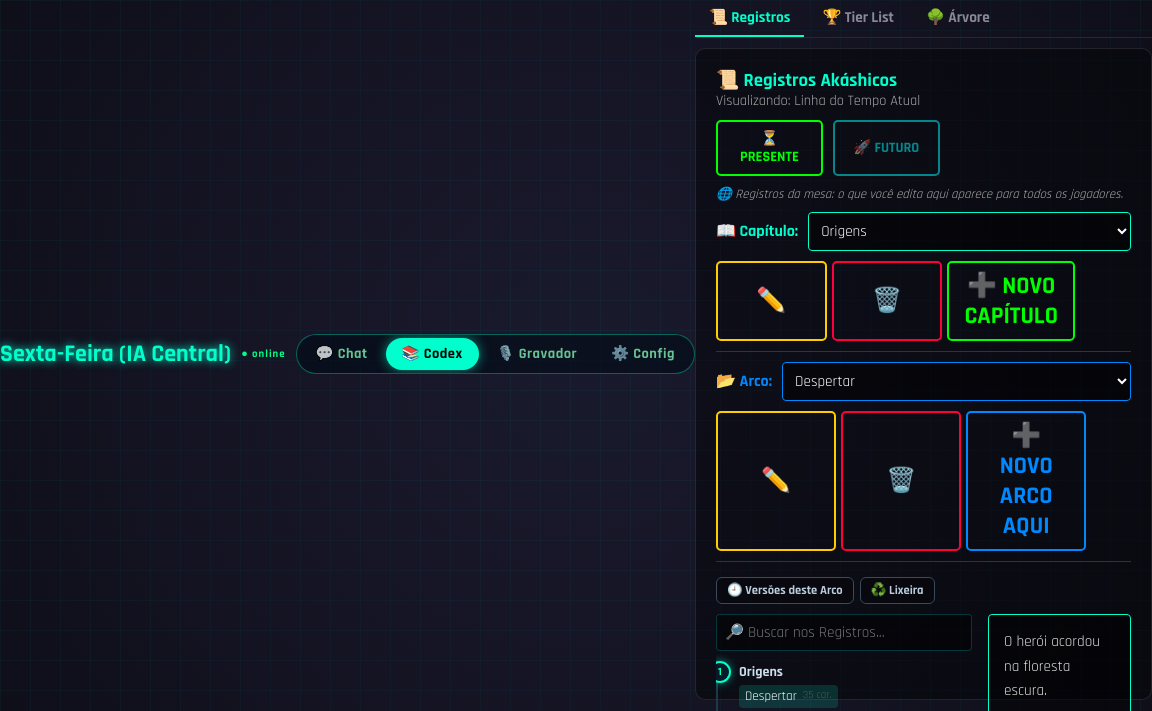
Test: VersoesArcoModal › clicar em outra versao troca a previa
This screenshot has width=1152, height=711.
Click the button "🕘 Versões deste Arco". click: coordinates (785, 591)
box: [716, 577, 854, 604]
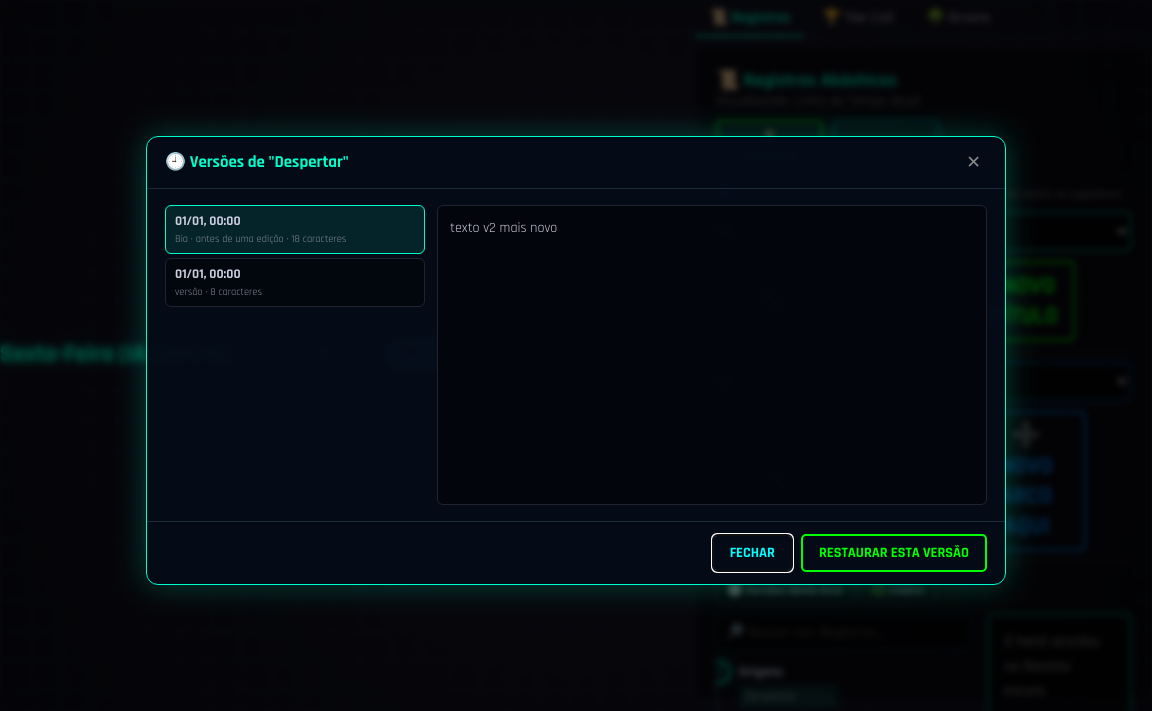
Click the button with class "sexta-versao" that starts with "versão". click: coordinates (208, 274)
box: [165, 258, 425, 306]
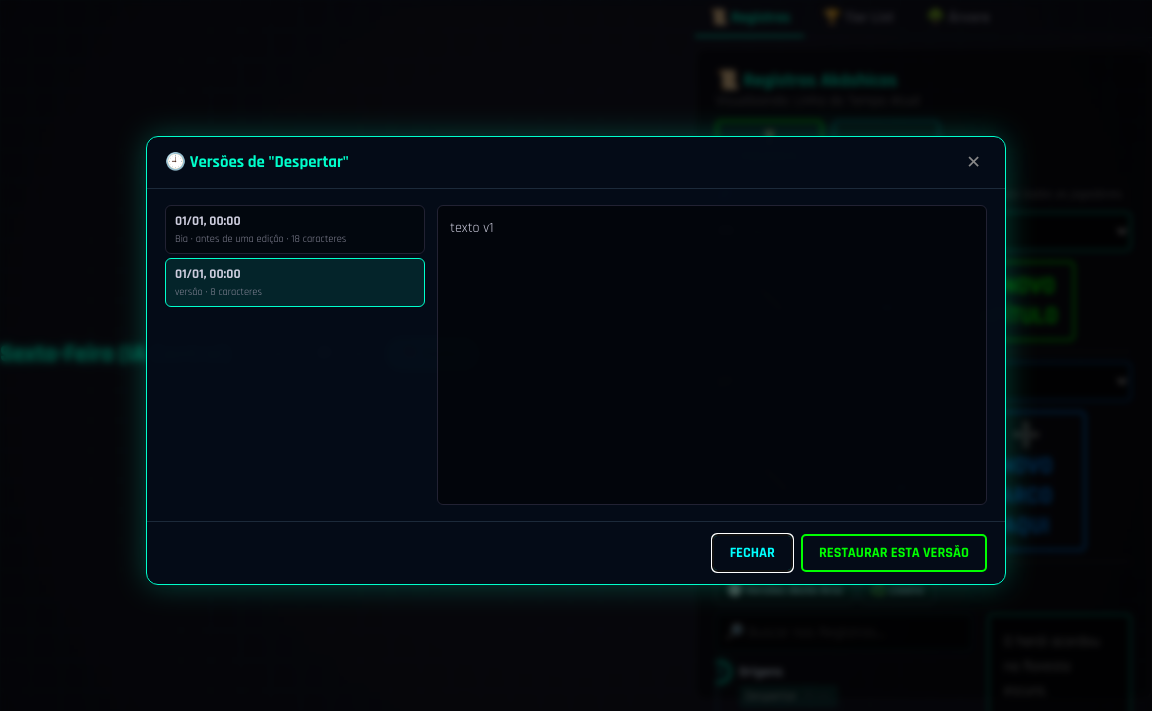
Result: the text with class "sexta-versao-previa" reads "texto v1" at [450, 218, 494, 236]
